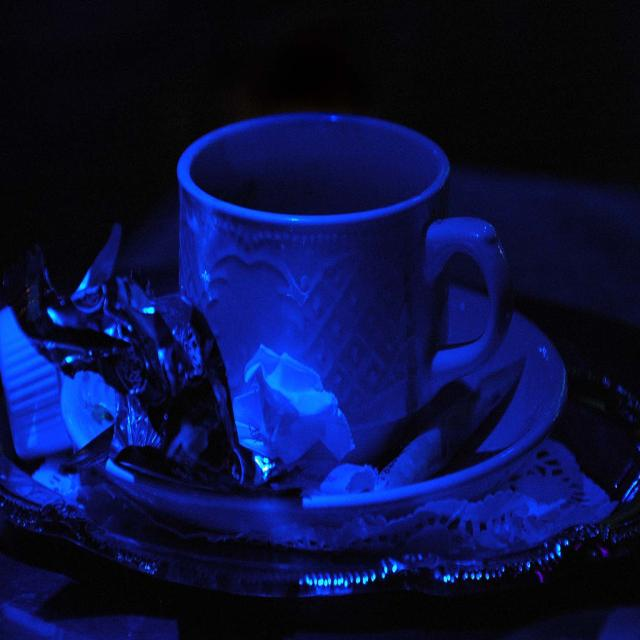Cup: (139, 105, 515, 542)
